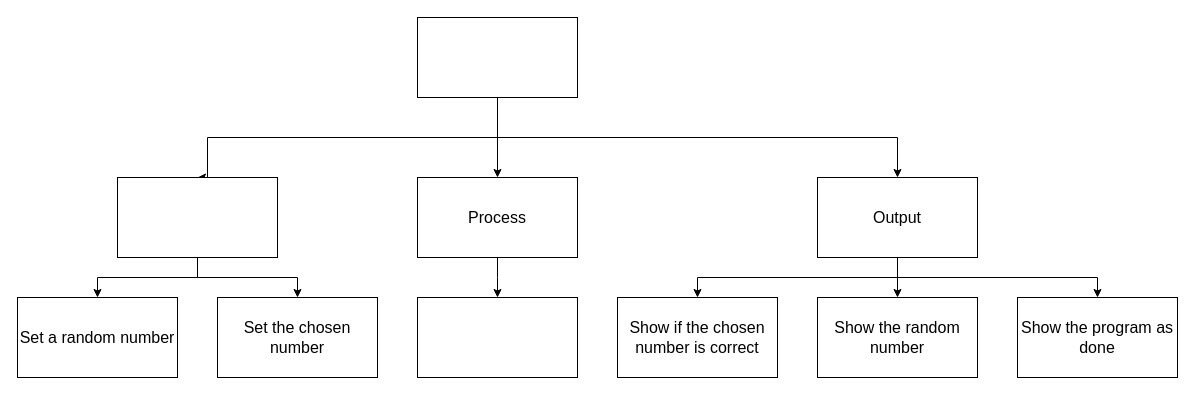
The diagram is 1195 pixels wide and 395 high, and some of its shapes have lost their labels. The shapes that lost their labels are listed below. From the top down, each one's centre as x and y in pixels, then its label:
pixel 497 57: Guessing a Hidden Number
pixel 197 217: Input
pixel 497 337: Check if the chosen number is equal to the random number
